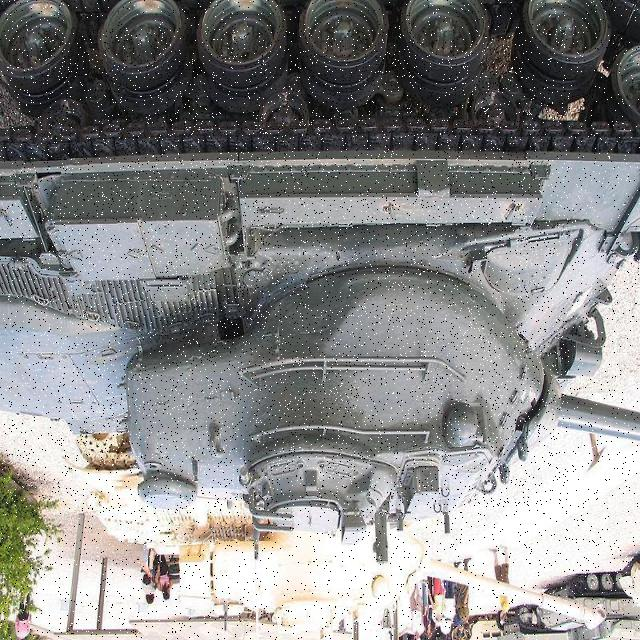MIL_MBT: (9, 29, 569, 515)
